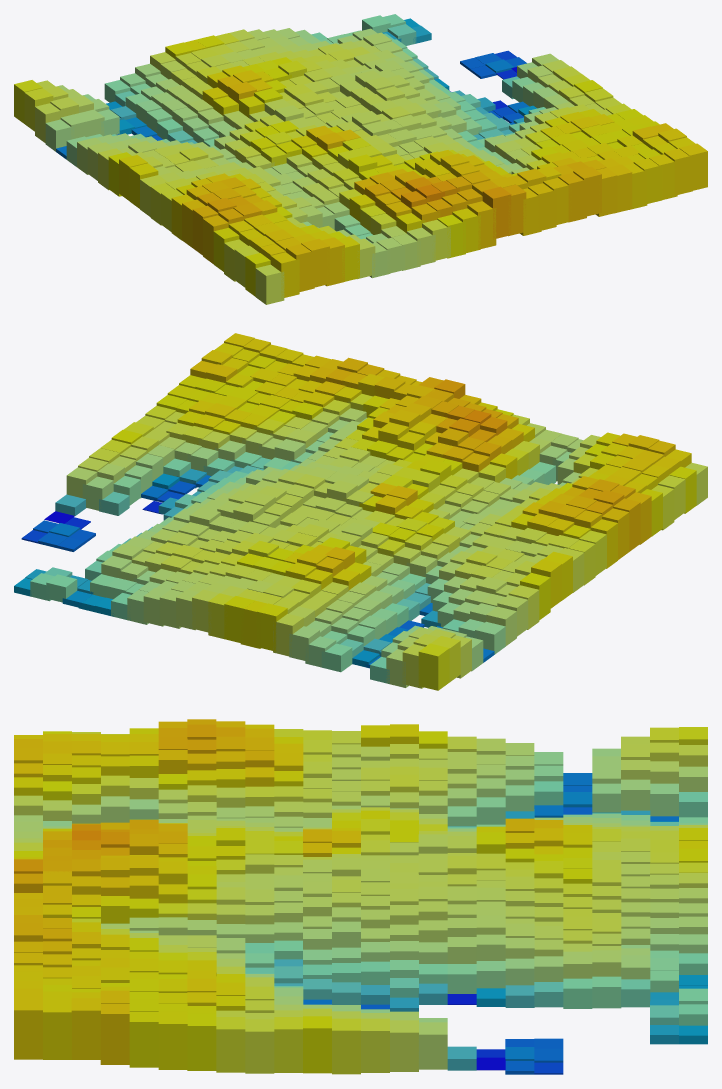
The model's file is population.glb.
3 renders of one model, top to bottom at view 1: azimuth 30°, elevation 25°; view 2: azimuth 150°, elevation 25°; view 3: azimuth 270°, elevation 25°, orthographic. The views are drawn at different scales.
Parts seen in each view (by area): view 1: population; view 2: population; view 3: population.
Boxes of the visible parts, <box> form: population: <box>14,14,707,304</box>; population: <box>14,333,707,690</box>; population: <box>14,719,707,1074</box>.
Bounding box in the file's own units: 2420 × 287 × 2392.
